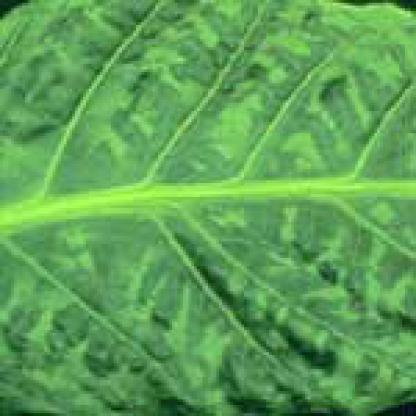Tomato leaf mosaic virus: (8, 8, 410, 410)
